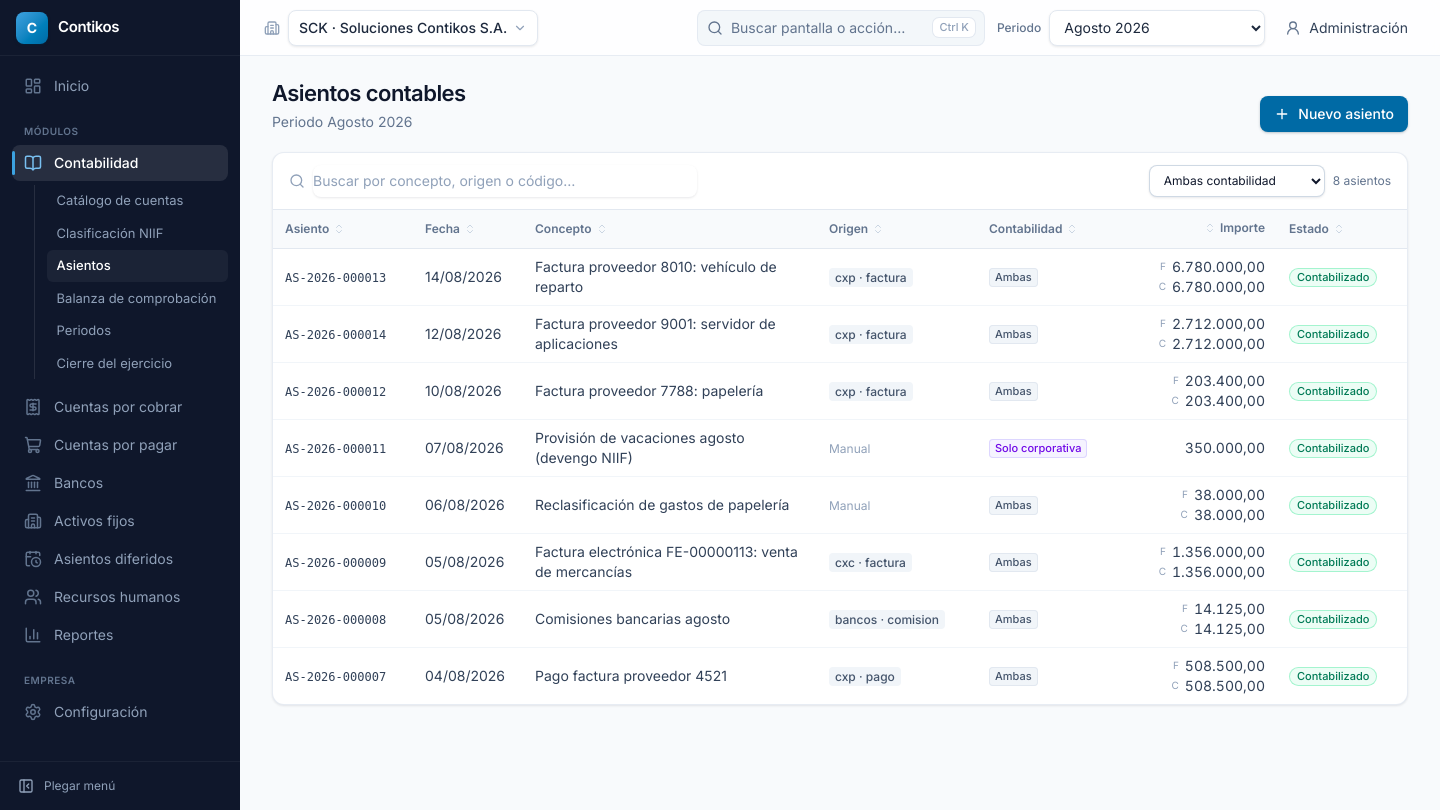
Test: Asientos › lista los asientos del periodo activo y abre el detalle del asiento
# Agosto 2026: pago a proveedor, comisiones bancarias y reclasificación
Click the text "Comisiones bancarias agosto".
click(670, 618)  # box [523, 590, 817, 647]
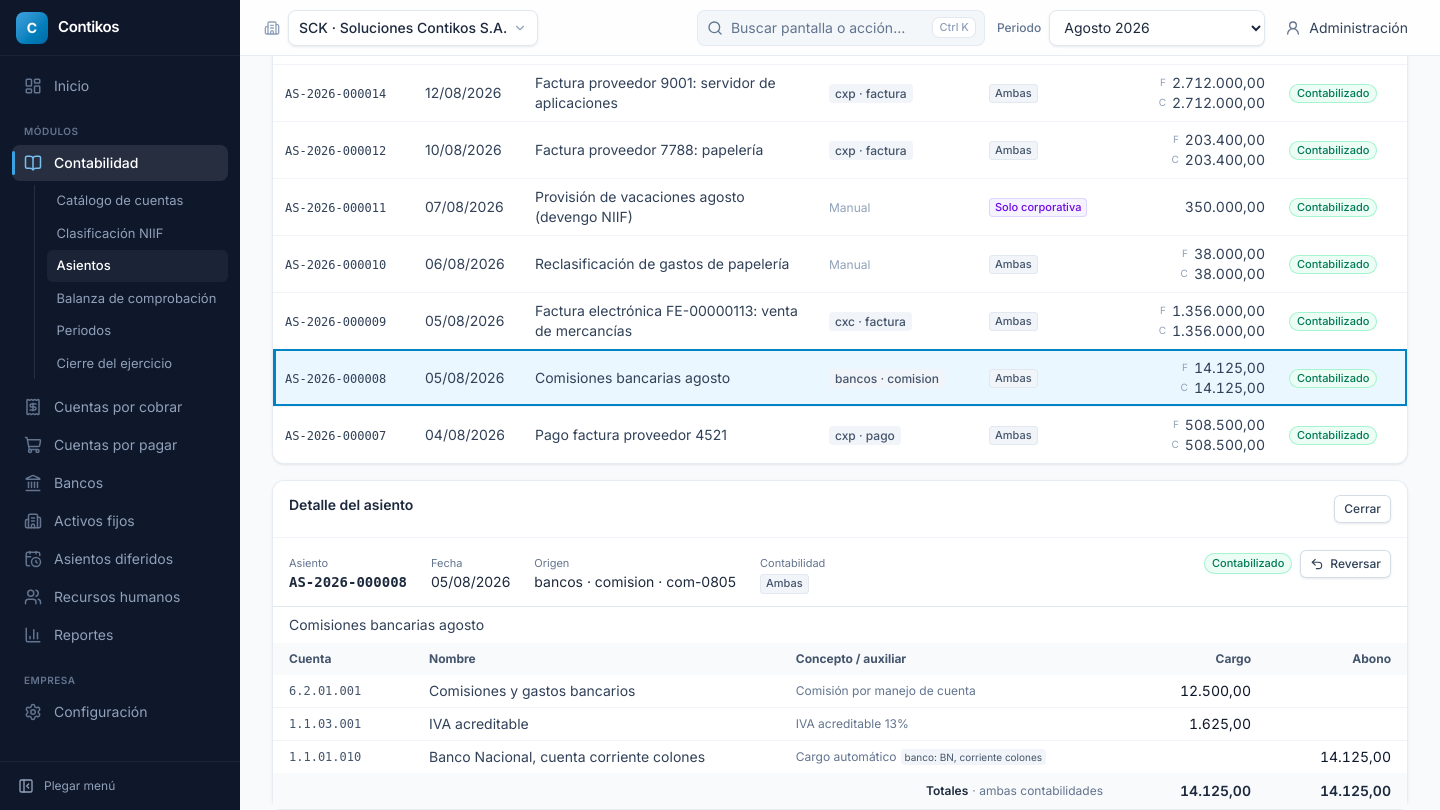
Expected: the heading "Detalle del asiento" is shown, [289, 494, 413, 514]
Expected: the text "bancos · comision · com-0805" is shown, [534, 572, 736, 592]
Expected: the text "Comisión por manejo de cuenta" is shown, [784, 675, 1119, 708]
